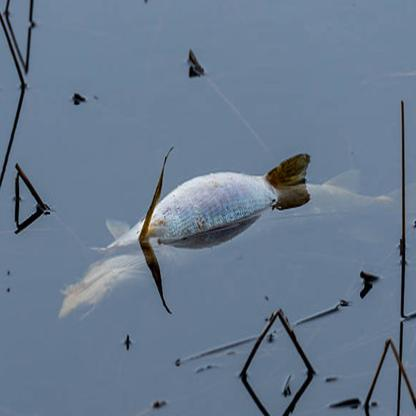deceased fish: (56, 157, 398, 319)
